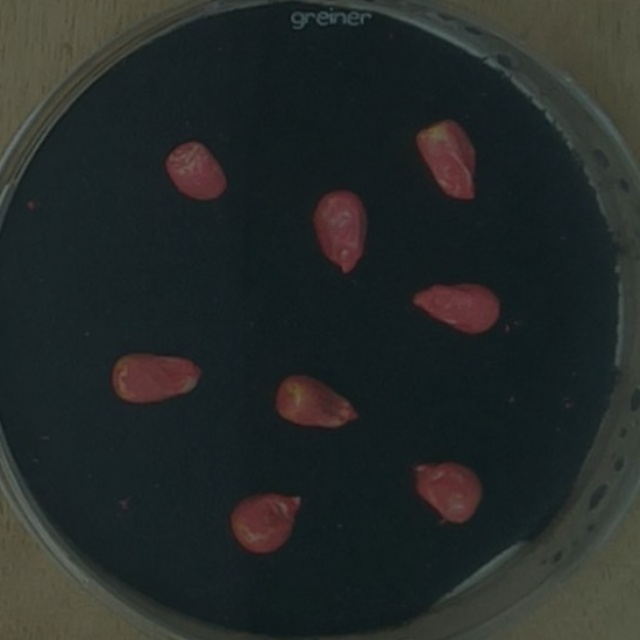Zea mays: (100, 343, 211, 413), (266, 365, 368, 438), (403, 274, 510, 342), (408, 111, 482, 209), (401, 452, 488, 532), (222, 482, 311, 560), (306, 181, 374, 280), (158, 132, 235, 211)
